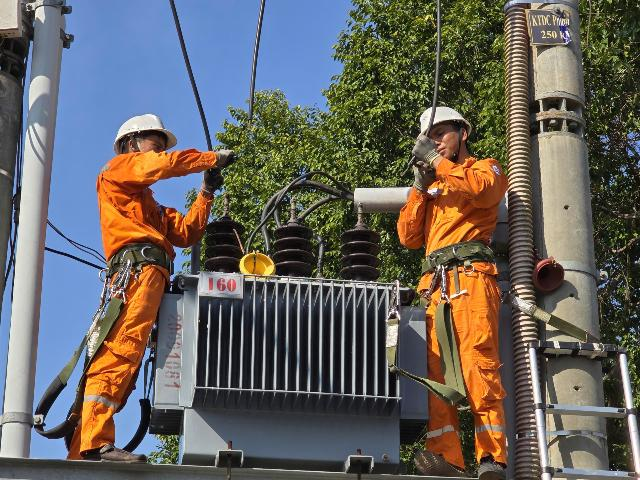gloves: (412, 131, 451, 172), (402, 156, 440, 194), (198, 161, 227, 202), (210, 143, 242, 172)
harness: (405, 237, 495, 282), (109, 236, 186, 284)
helmet: (103, 108, 182, 152), (406, 104, 476, 139)
shoes: (73, 433, 140, 473), (404, 440, 463, 480), (469, 443, 510, 480)
